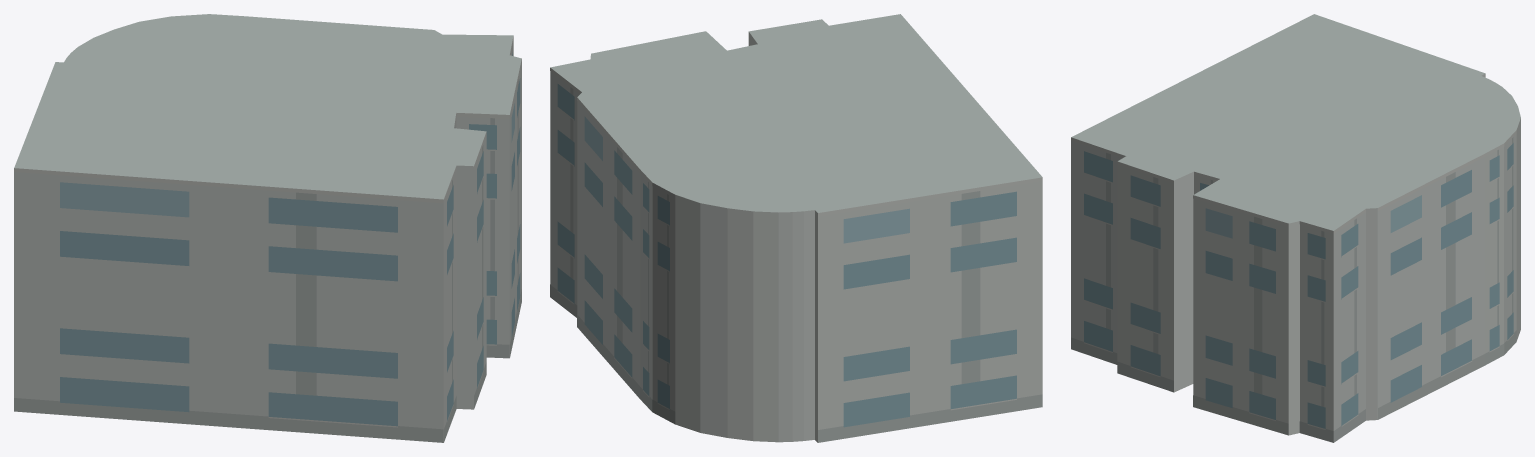
The model's file is survey-upis-32674611.glb.
The picture shows the model from 3 angles, left to right: view 1: azimuth 30°, elevation 25°; view 2: azimuth 150°, elevation 25°; view 3: azimuth 270°, elevation 25°; orthographic projection. The views are drawn at different scales.
Visible parts, largest first — view 1: survey-upis-32674611.tmp; view 2: survey-upis-32674611.tmp; view 3: survey-upis-32674611.tmp.
Boxes of the visible parts, <box> form: survey-upis-32674611.tmp: <box>14,14,521,442</box>; survey-upis-32674611.tmp: <box>550,14,1042,442</box>; survey-upis-32674611.tmp: <box>1071,14,1520,442</box>.
Bounding box in the file's own units: 33.49 × 15.25 × 29.34.
